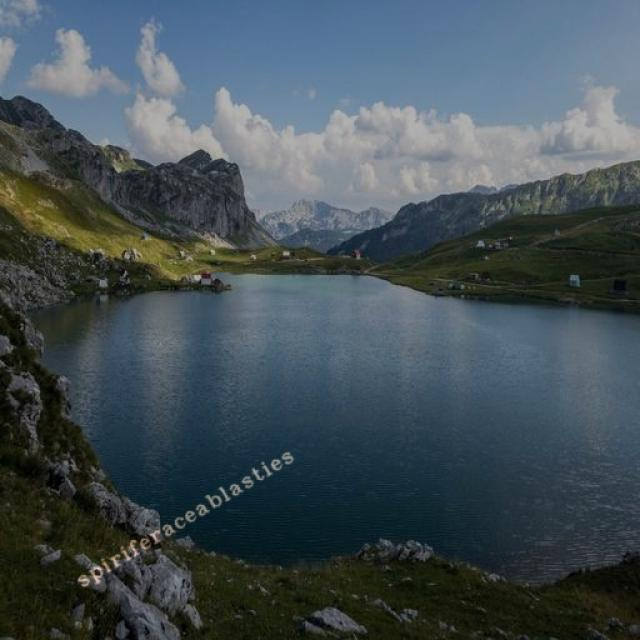watermark: (74, 441, 295, 591)
